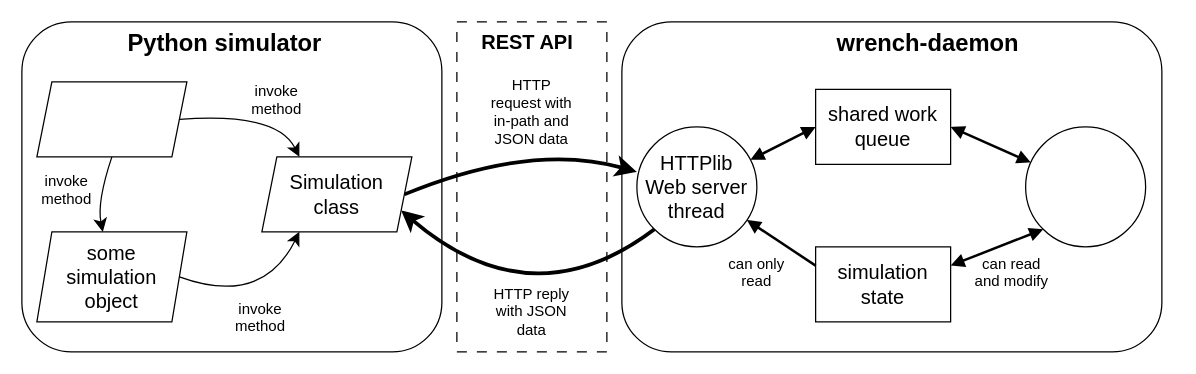
This 1196x374 diagram has some shape labels left out. Here are the shapes that lost their labels. From the top down, the centre of each, then its label:
the point at 111,119: main method
the point at 1085,186: Simulation Thread
